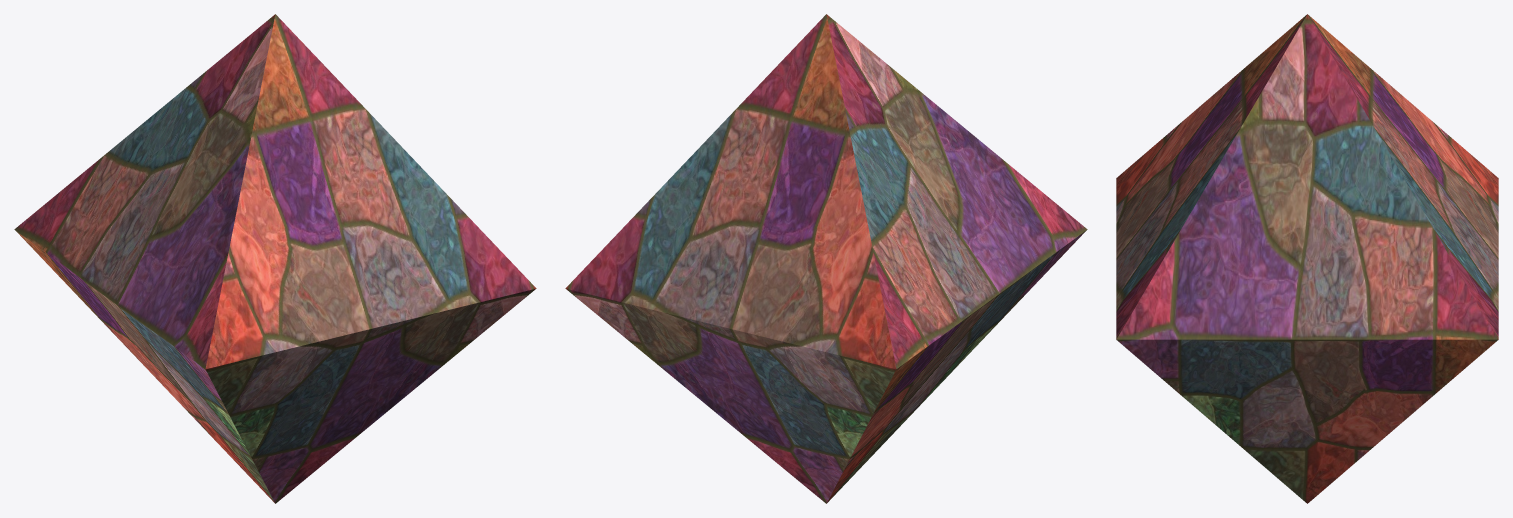
File: Resource.FBX
The picture shows the model from 3 angles, left to right: view 1: azimuth 30°, elevation 25°; view 2: azimuth 150°, elevation 25°; view 3: azimuth 270°, elevation 25°; orthographic projection.
Visible parts, largest first — view 1: Hedra001; view 2: Hedra001; view 3: Hedra001.
Boxes of the visible parts, x1,y1,x2,y2 form: Hedra001: (14, 14, 536, 503); Hedra001: (565, 14, 1087, 503); Hedra001: (1116, 14, 1498, 503).
Bounding box in the file's own units: 28.28 × 40 × 28.28.
Materials: 1 (1 with a texture image).
